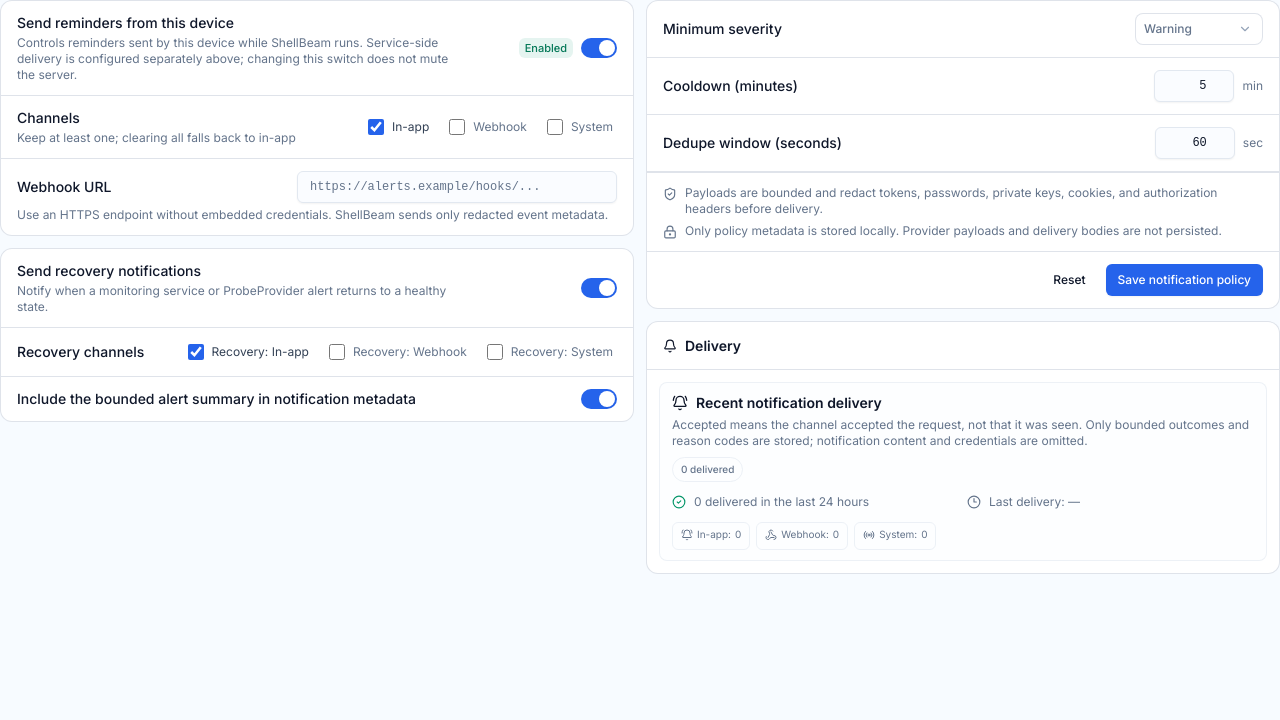
Test: NotificationSettingsSection › requests permission only on user action and journals a test notification
Click the checkbox labelled "System": (555, 127) [547,119,563,135]
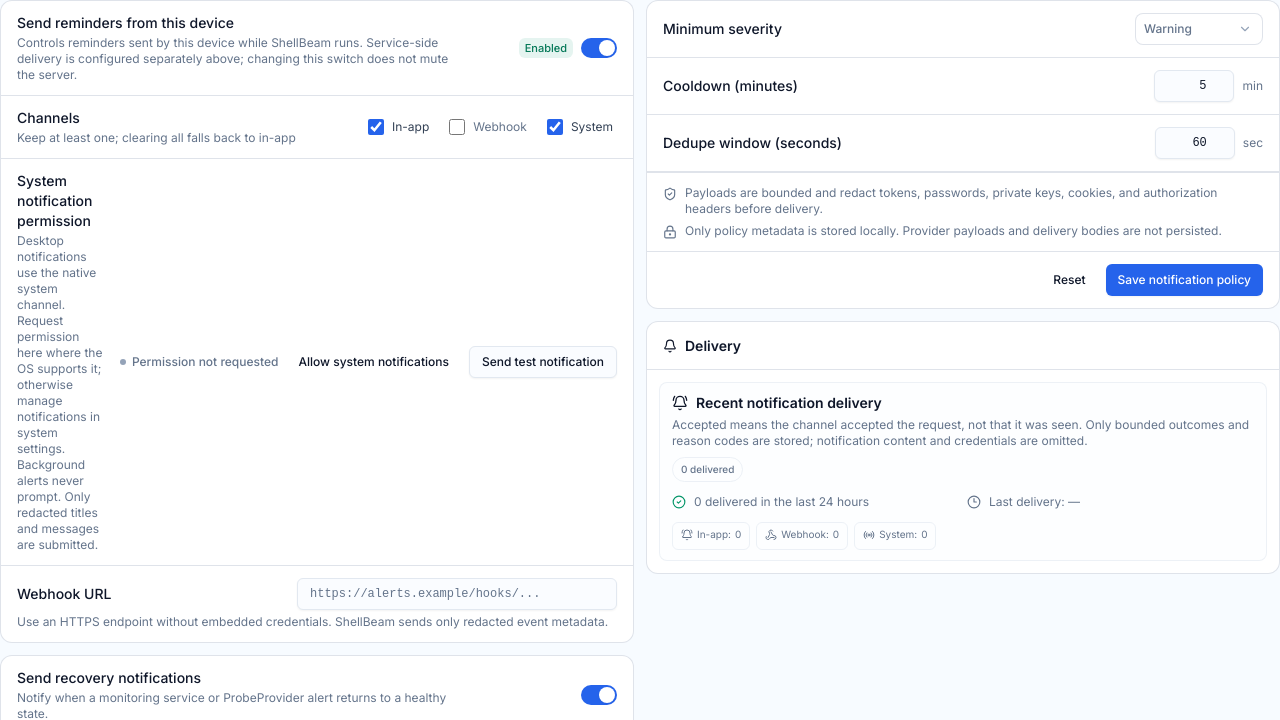
Click the button "Allow system notifications": (374, 362) [286,346,461,378]
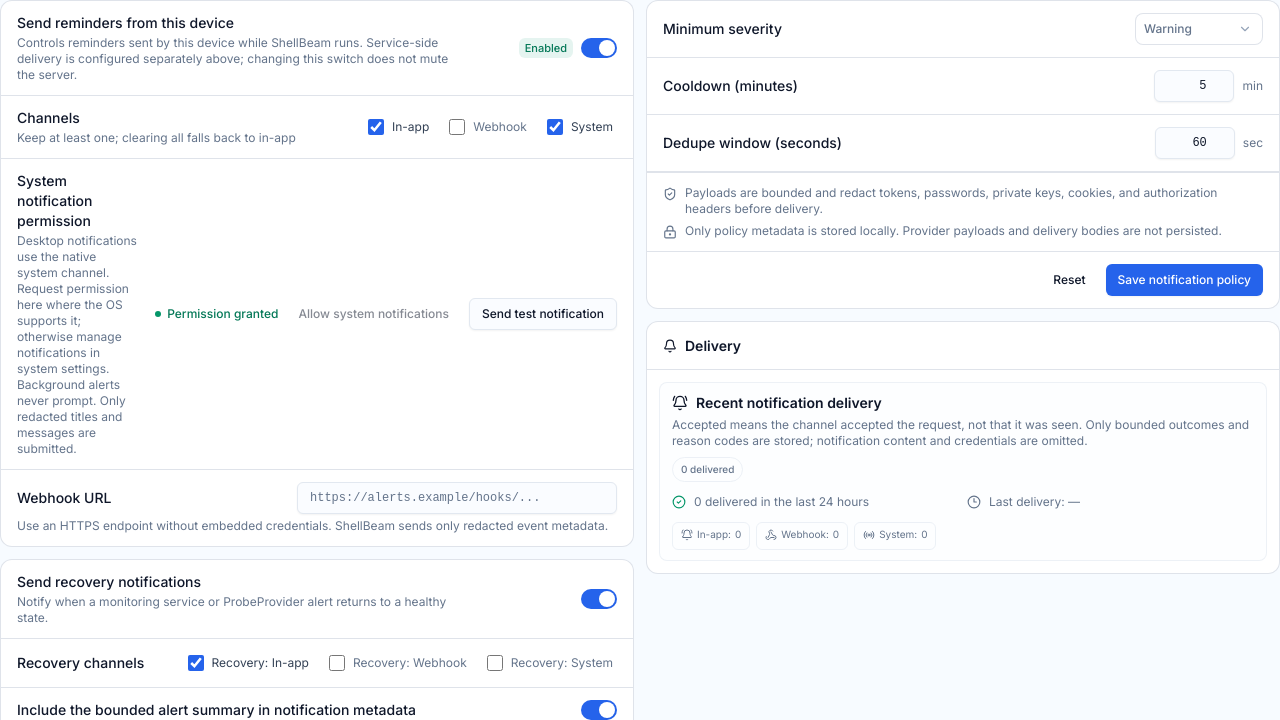
Now the button "Send test notification" is enabled
Click the button "Send test notification": (543, 314) [469,298,617,330]
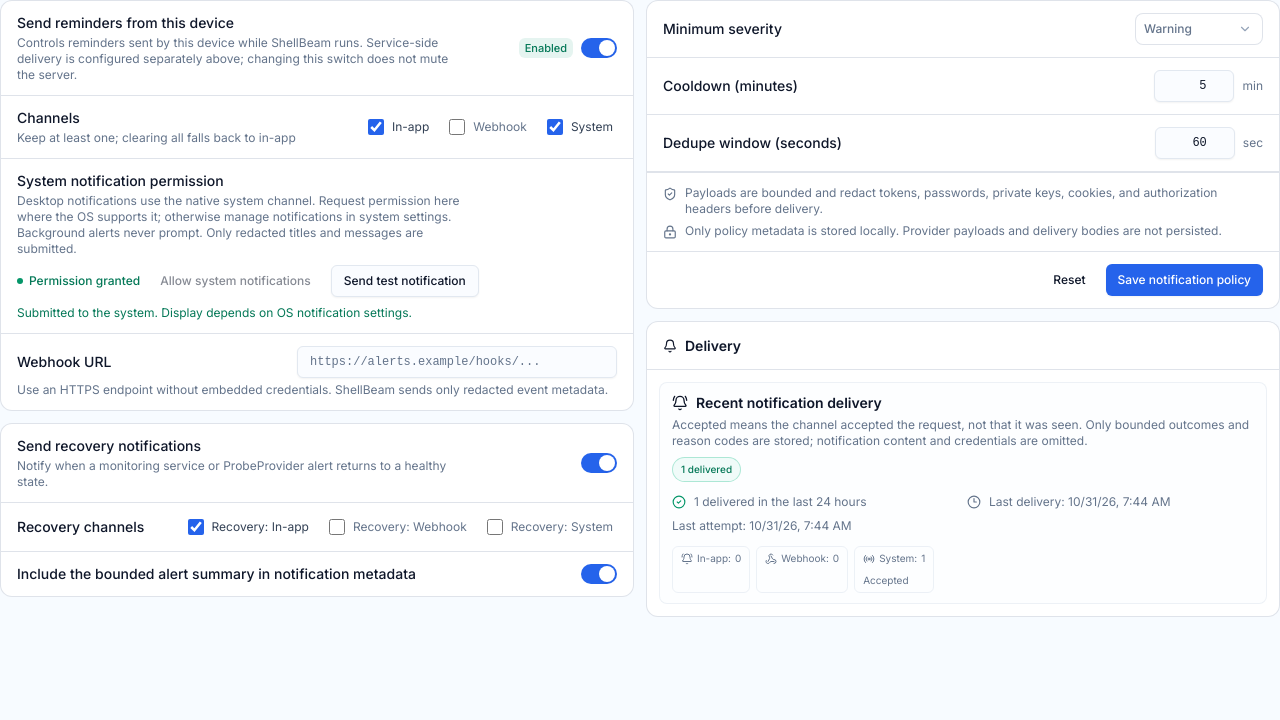
Now the text "Submitted to the system. Display depends on OS notification settings." is shown, box [17,305,412,321]
